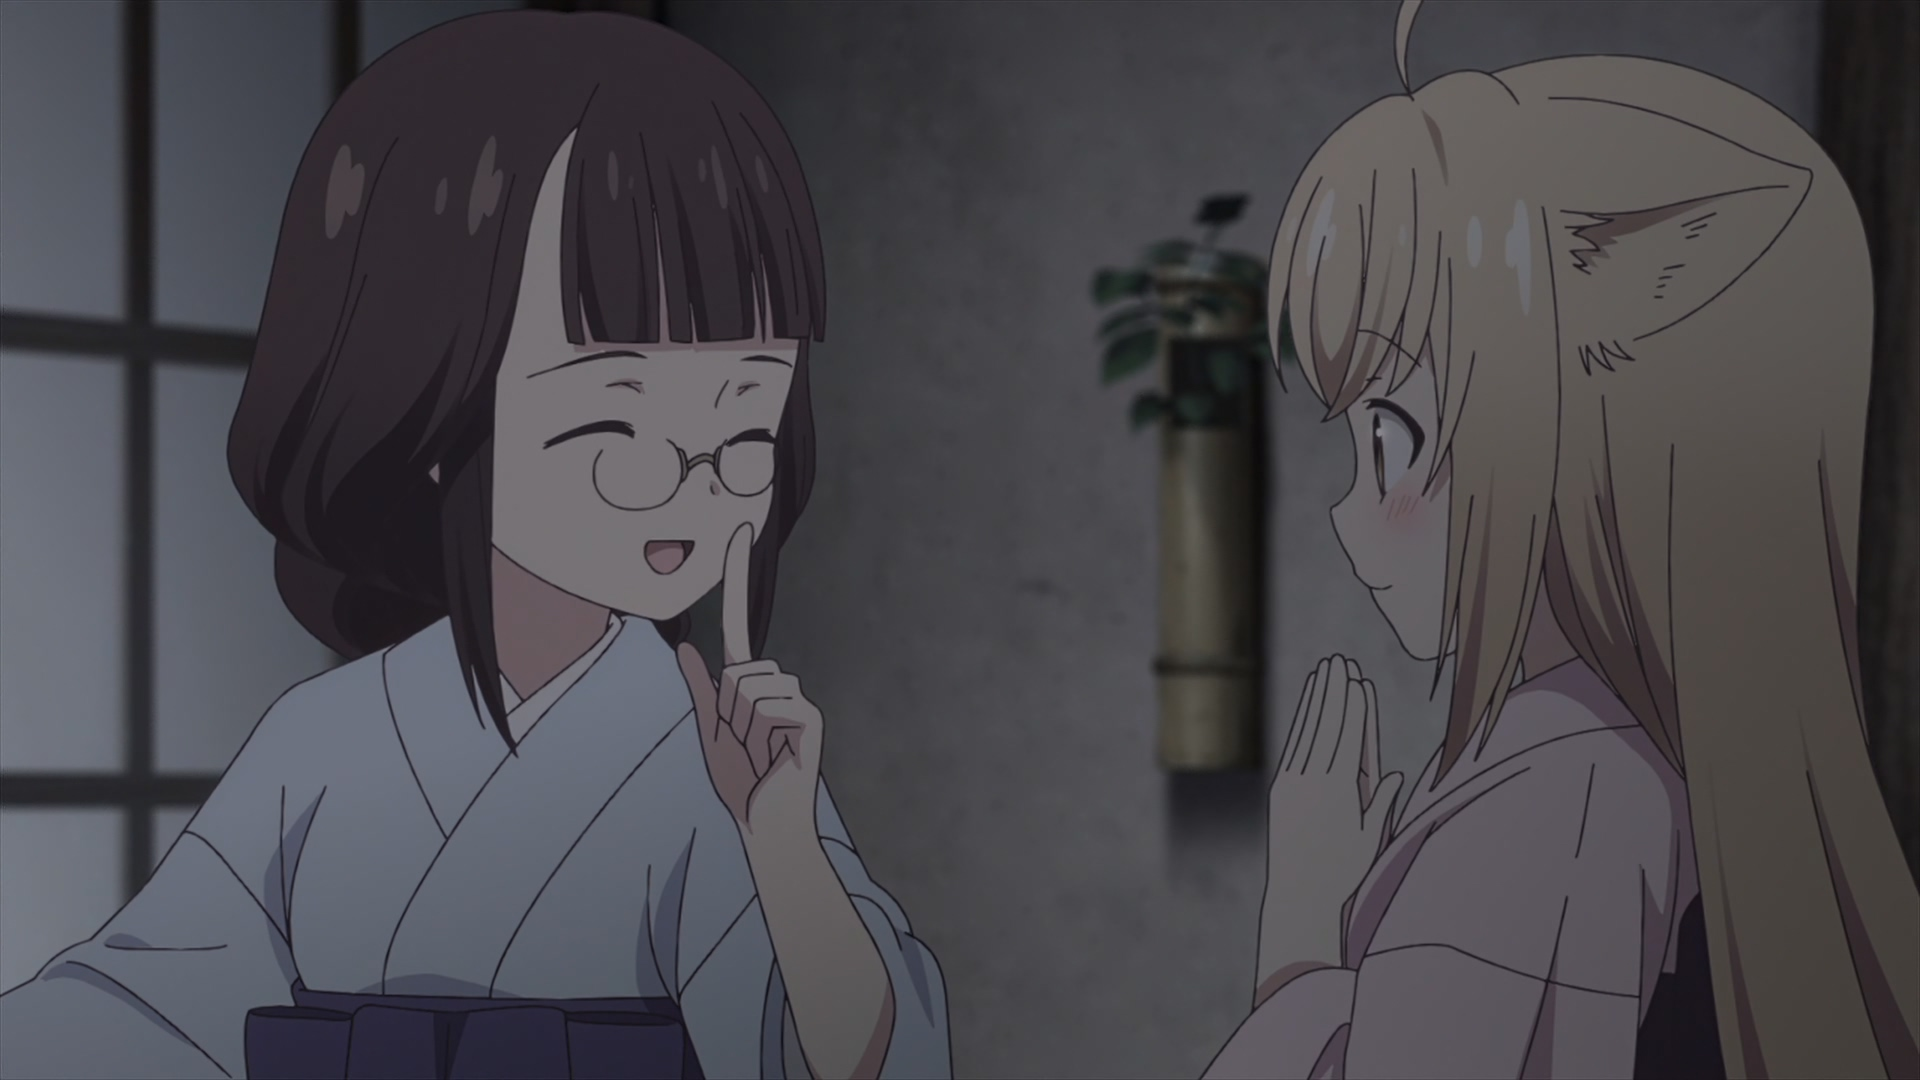其他: (1, 8, 949, 1080)
柚: (1197, 1, 1920, 1080)
